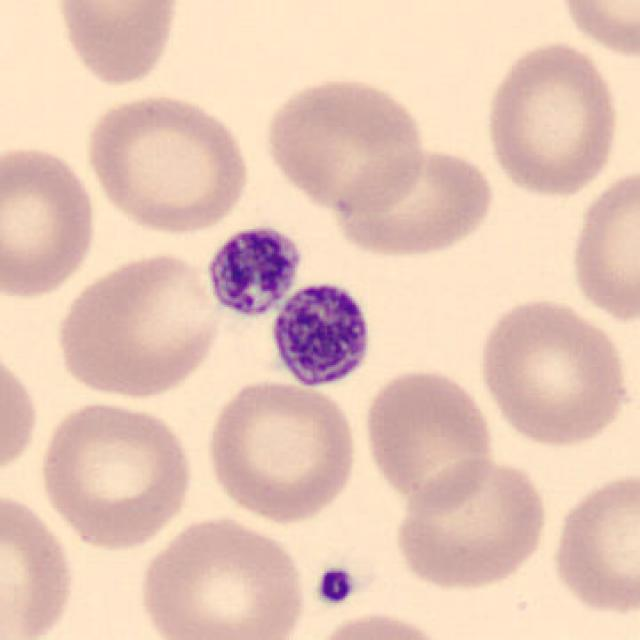Platelets: (265, 278, 377, 395), (201, 222, 304, 321), (311, 561, 359, 608)
RBC: (52, 247, 224, 402), (80, 88, 256, 238), (473, 292, 633, 450), (34, 397, 197, 552), (260, 70, 430, 217), (201, 376, 361, 526), (480, 37, 624, 201), (133, 513, 310, 640), (391, 455, 551, 592), (359, 363, 498, 511), (329, 145, 498, 261), (0, 139, 101, 301), (547, 465, 640, 620), (0, 486, 80, 640), (50, 0, 185, 90), (566, 162, 638, 326), (0, 340, 43, 492), (551, 0, 640, 63), (299, 608, 457, 640)
